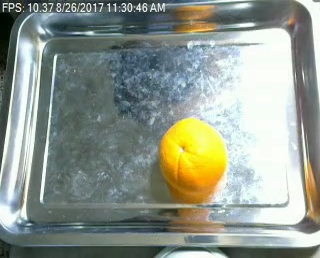Orange: (160, 117, 227, 194)
